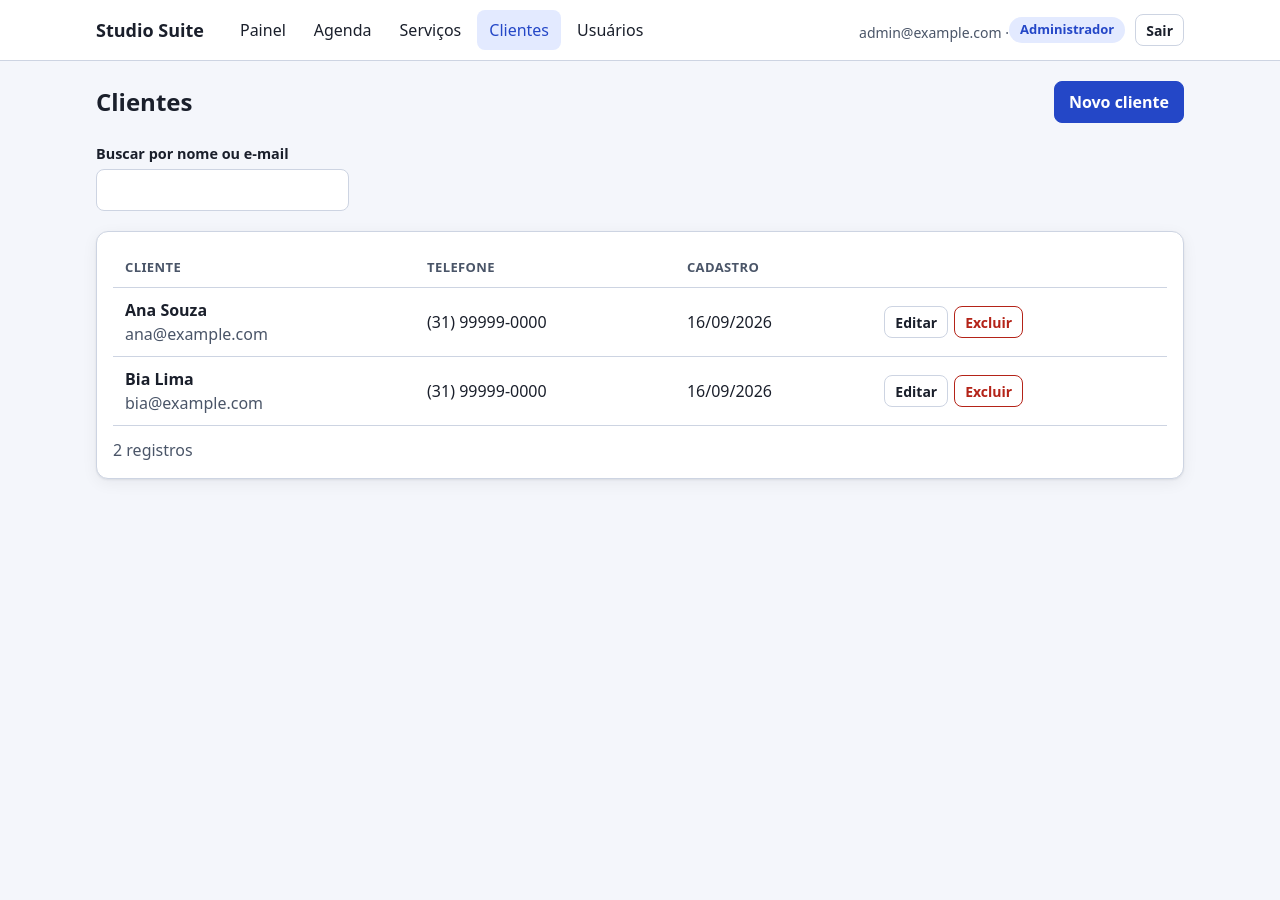
Test: customers › puts a duplicate e-mail (409 email_taken) on the e-mail field
The image size is (1280, 900).
Check: the heading "Clientes" is shown, box [96,87,192,117]
Check: the text "Ana Souza" is shown, box [125,299,207,321]
Step 1. Click the button "Novo cliente" → point(1119, 102), box [1054,81,1184,123]
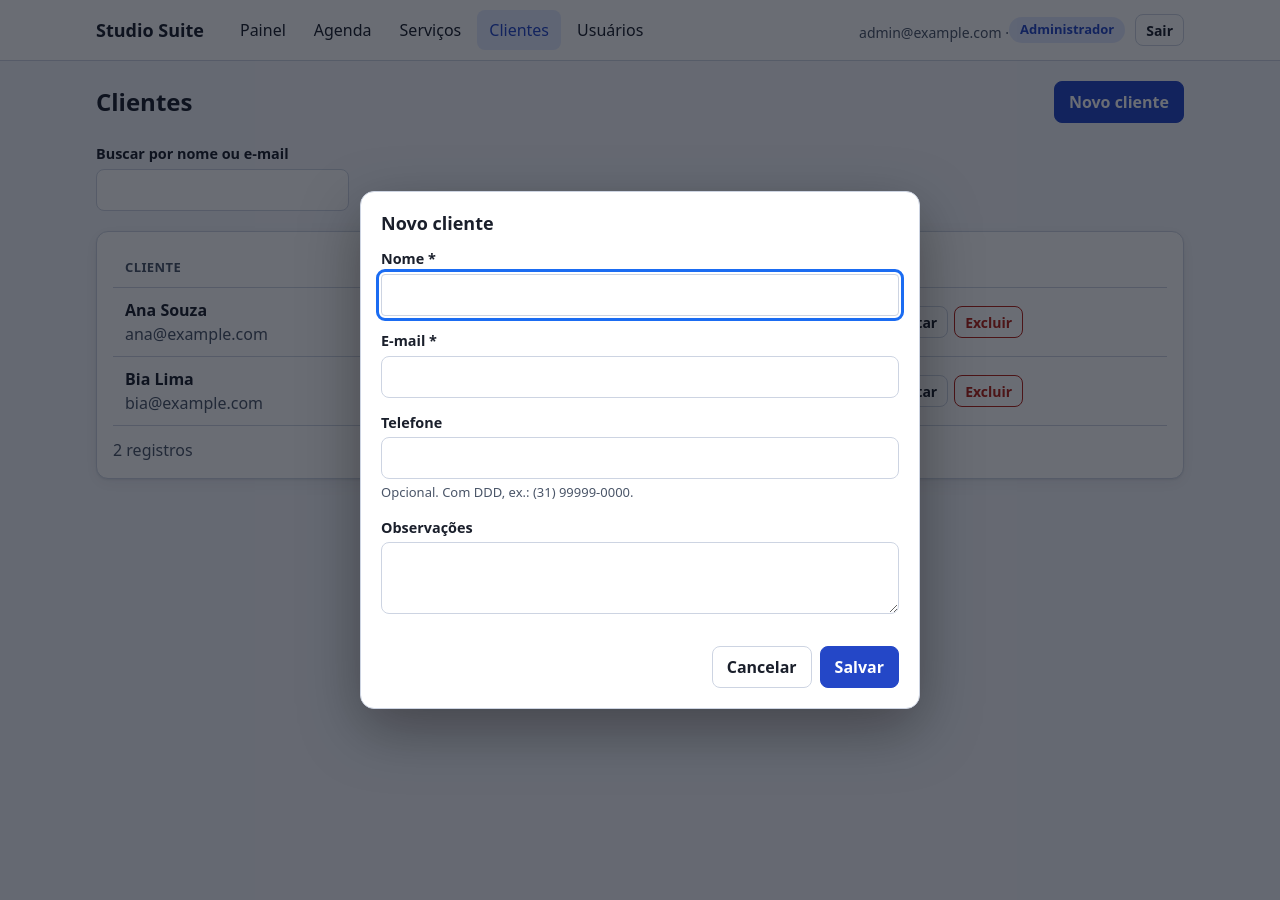
Step 2. Type "Outra Ana" into the field labelled "Nome *" → point(640, 295), box [381,274,899,316]
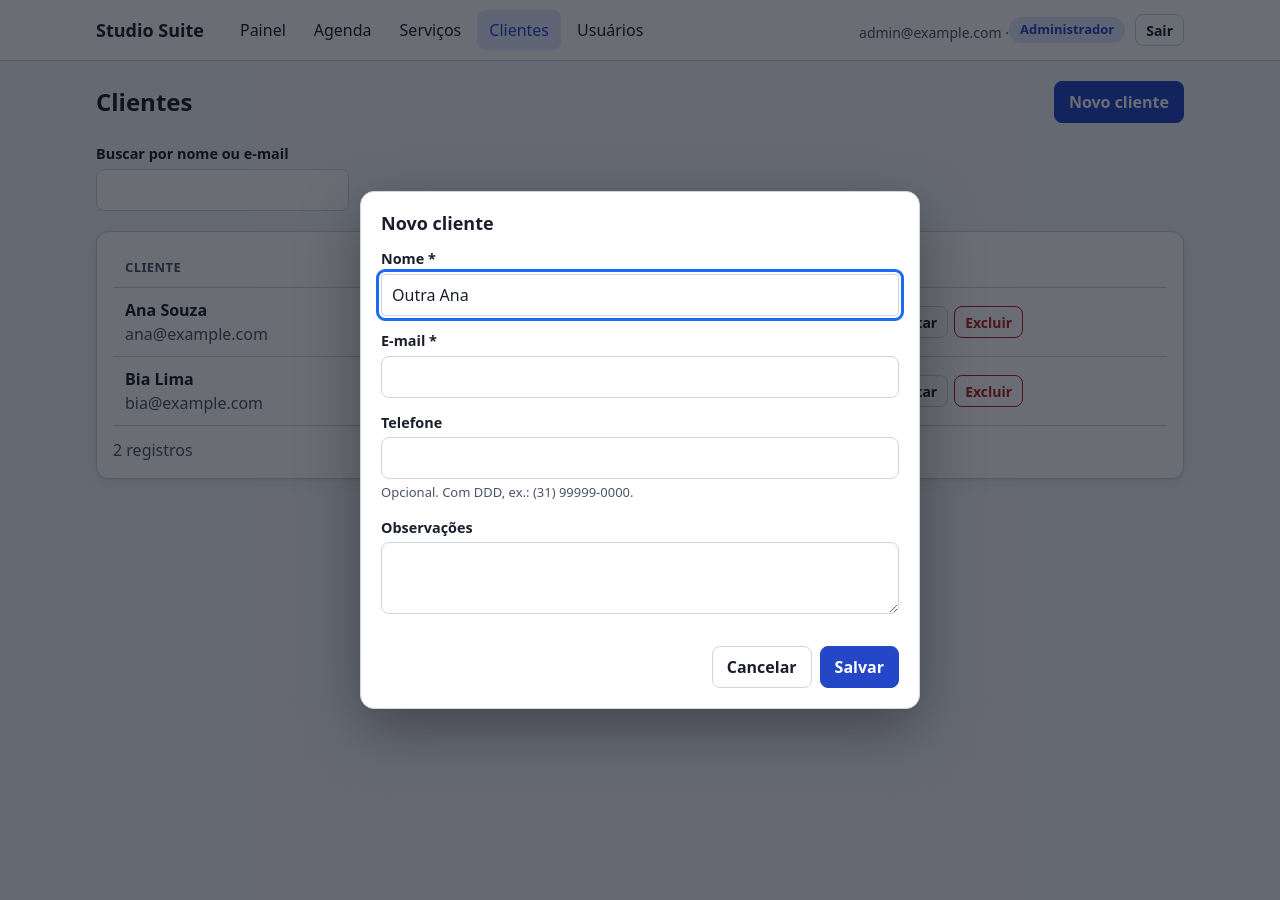
Step 3. Type "ana@example.com" into the field labelled "E-mail *" → point(640, 376), box [381,356,899,398]
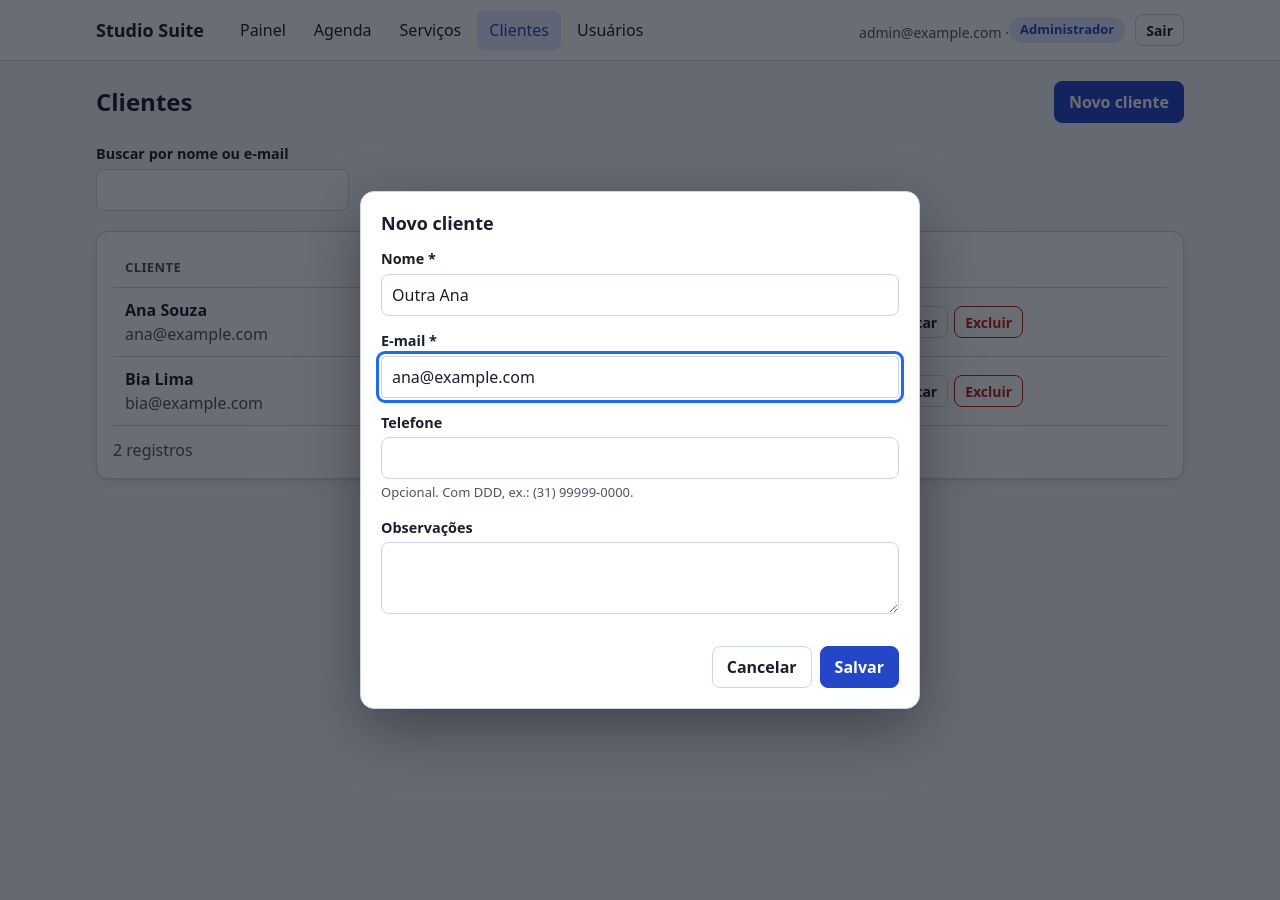
Step 4. Click the button "Salvar" → point(859, 667), box [820,646,899,688]
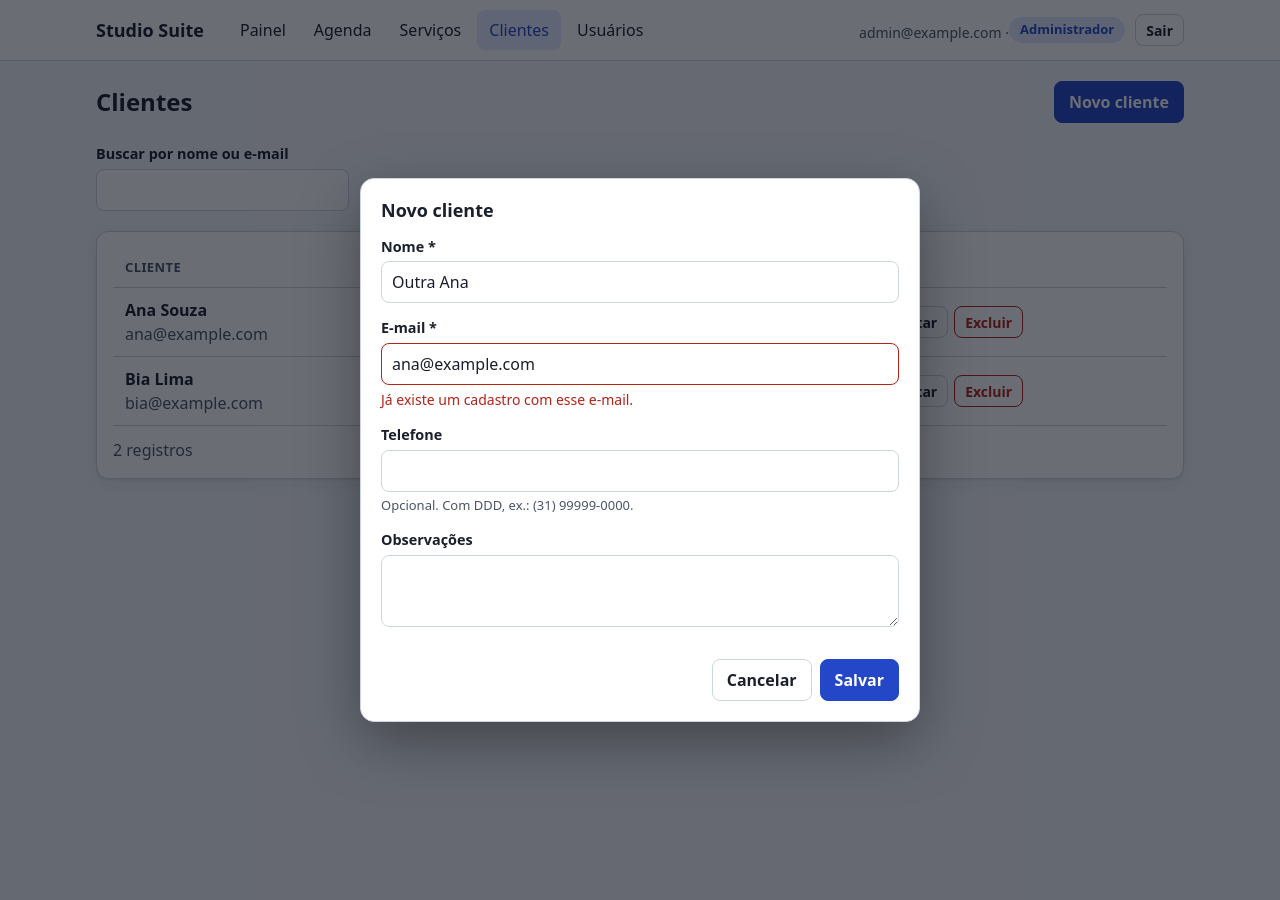
Check: the text "Já existe um cadastro com esse e-mail." is shown, box [381,390,633,409]
